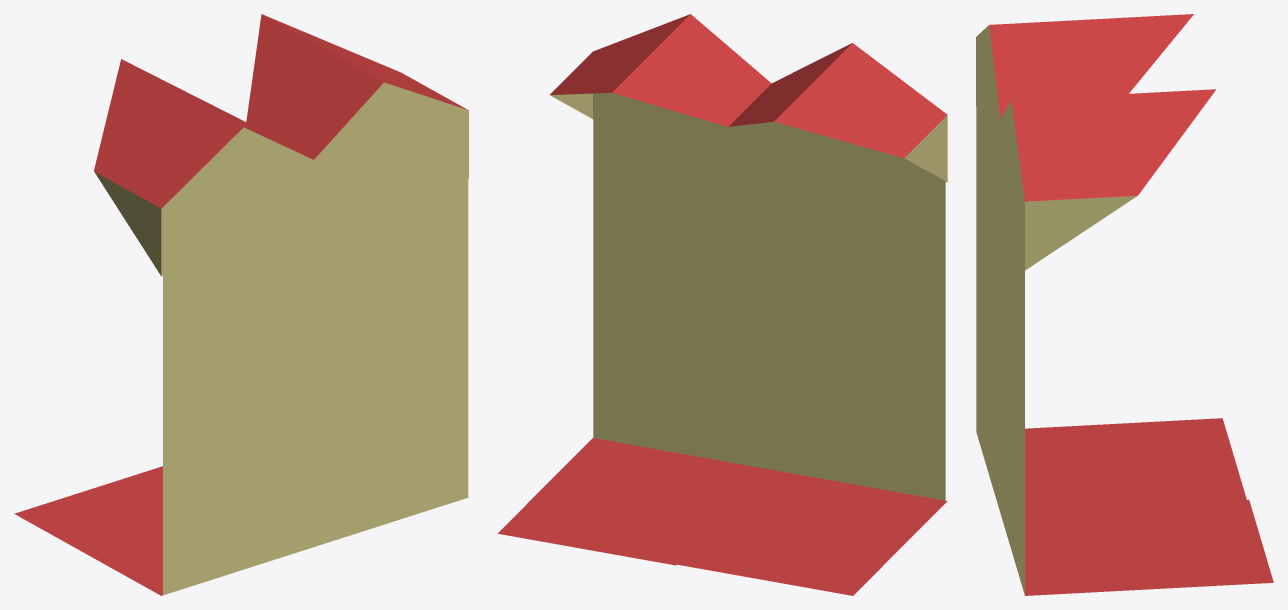
3 views of the same model, side by side, from view 1: azimuth 30°, elevation 25°; view 2: azimuth 150°, elevation 25°; view 3: azimuth 270°, elevation 25° (orthographic). The views are drawn at different scales.
Bounding box in the file's own units: 9.02 × 6.38 × 10.66.
